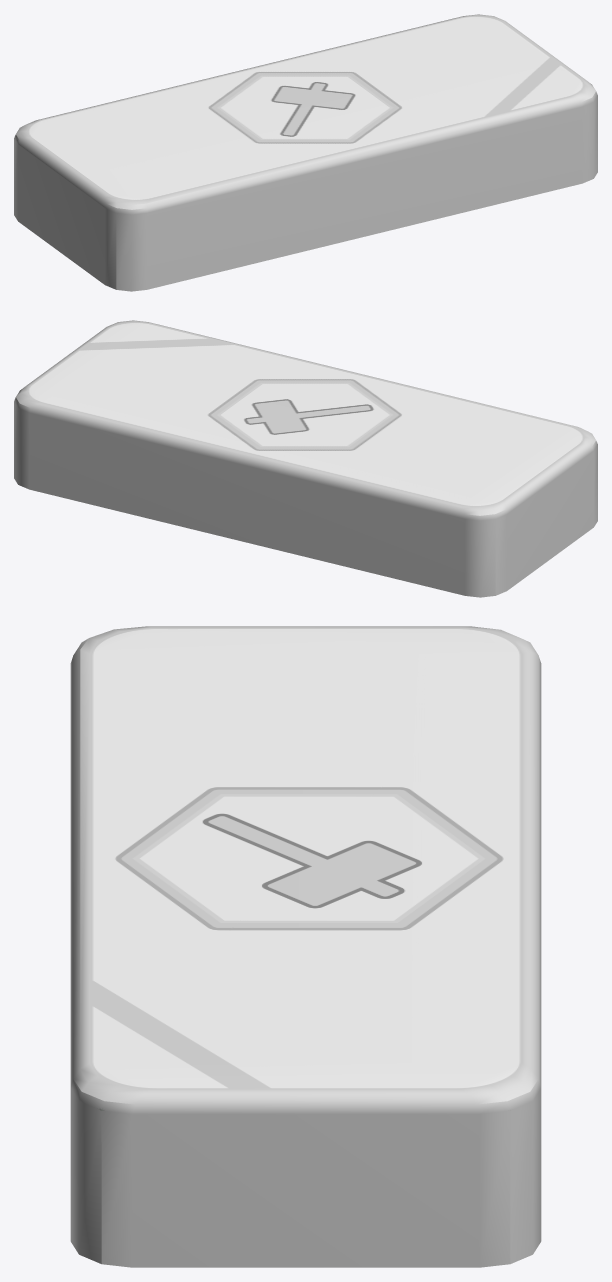
Rendered from WorkArea_pad.fbx.
3 renders of one model, top to bottom at view 1: azimuth 30°, elevation 25°; view 2: azimuth 150°, elevation 25°; view 3: azimuth 270°, elevation 25°, orthographic. The views are drawn at different scales.
Parts seen in each view (by area): view 1: WorkArea_pad; view 2: WorkArea_pad; view 3: WorkArea_pad.
Boxes of the visible parts, x1,y1,x2,y2 form: WorkArea_pad: (14,14,597,291); WorkArea_pad: (14,320,597,597); WorkArea_pad: (70,626,541,1267).
Size of the model in its own units: 6 by 1 by 2.5.
1 material, 1 textured.
